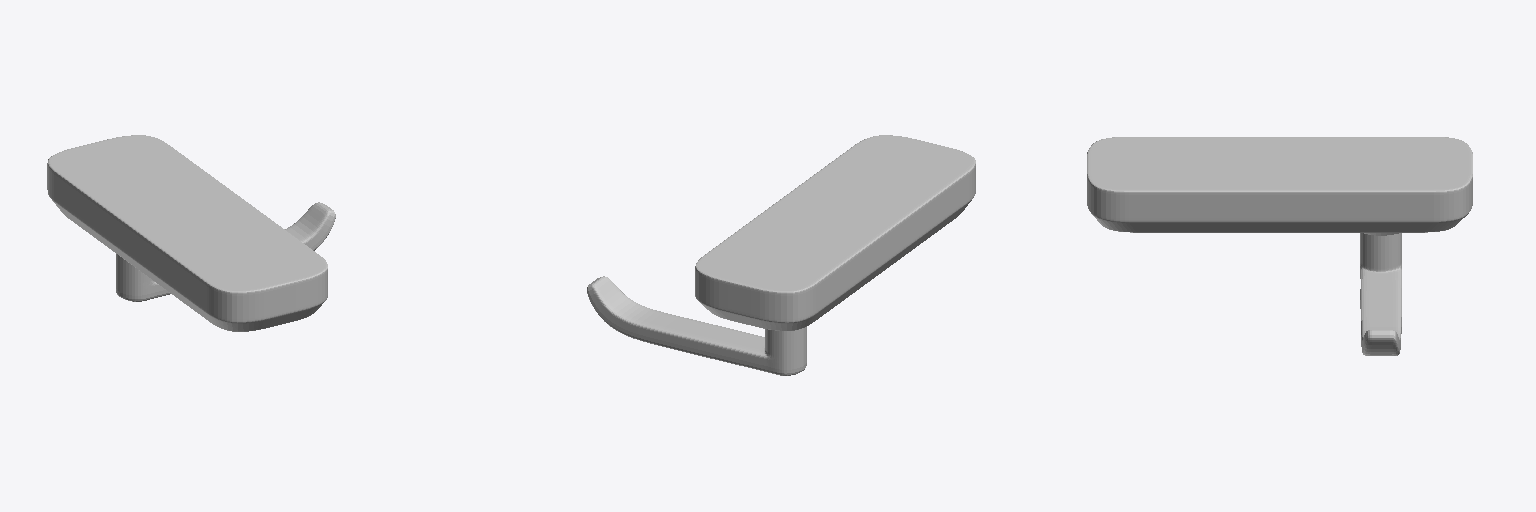
File: 20290_Keypad_handle_entry_v2.obj
3 views of the same model, side by side, from view 1: azimuth 30°, elevation 25°; view 2: azimuth 150°, elevation 25°; view 3: azimuth 270°, elevation 25° (orthographic).
Parts seen in each view (by area): view 1: 20290_Keypad_handle_entry_v2; view 2: 20290_Keypad_handle_entry_v2; view 3: 20290_Keypad_handle_entry_v2.
Boxes of the visible parts, x1,y1,x2,y2 form: 20290_Keypad_handle_entry_v2: [47, 135, 335, 331]; 20290_Keypad_handle_entry_v2: [587, 135, 975, 375]; 20290_Keypad_handle_entry_v2: [1087, 137, 1472, 355].
Size of the model in its own units: 7.4 by 3.35 by 9.92.